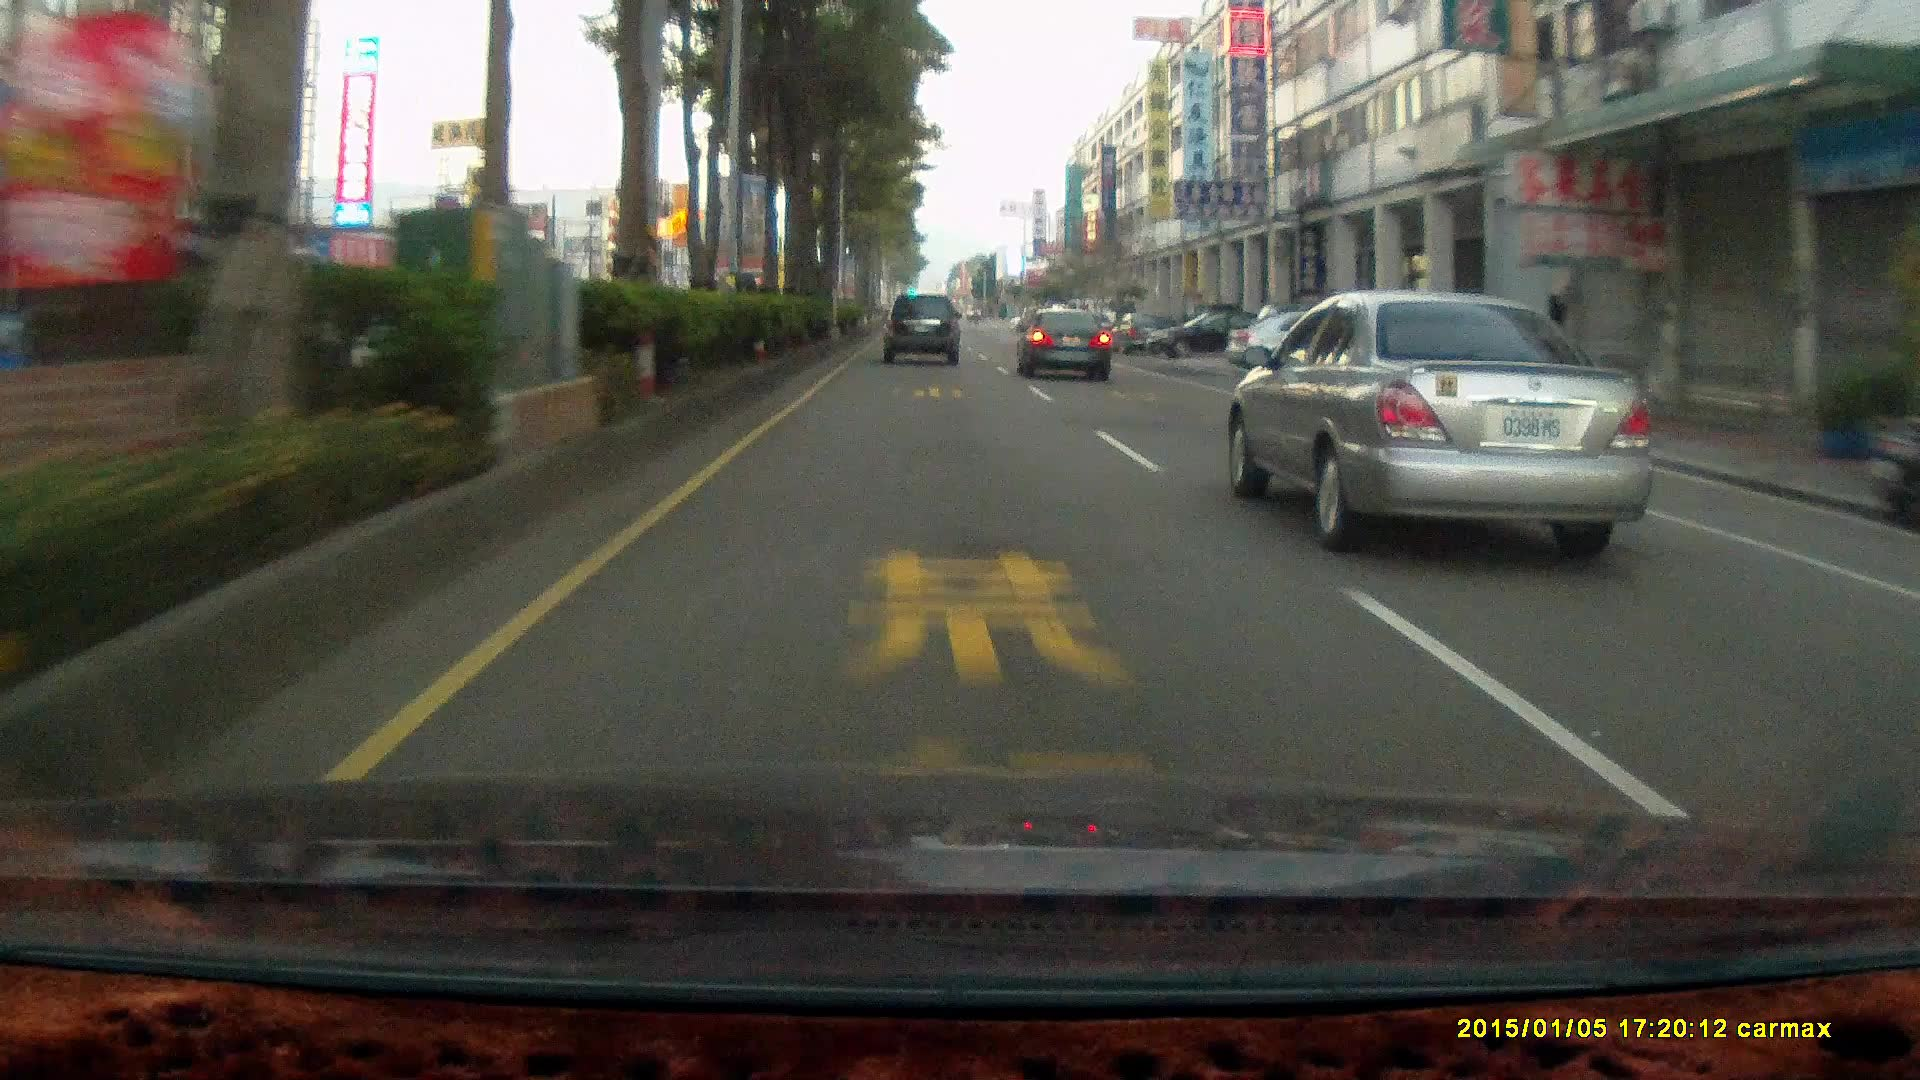vehicle: (1226, 286, 1676, 551), (1411, 315, 1602, 454), (1225, 307, 1411, 382), (1015, 309, 1116, 381), (1015, 309, 1112, 382), (1142, 307, 1274, 357), (882, 293, 964, 368), (881, 291, 963, 364), (1108, 313, 1164, 353)
